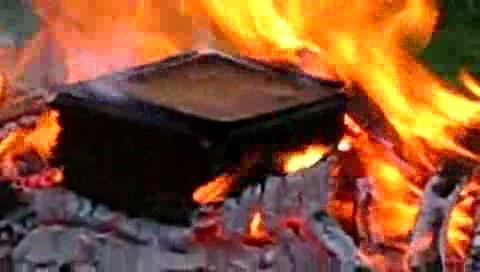fire: (28, 2, 321, 81), (328, 3, 472, 163)
